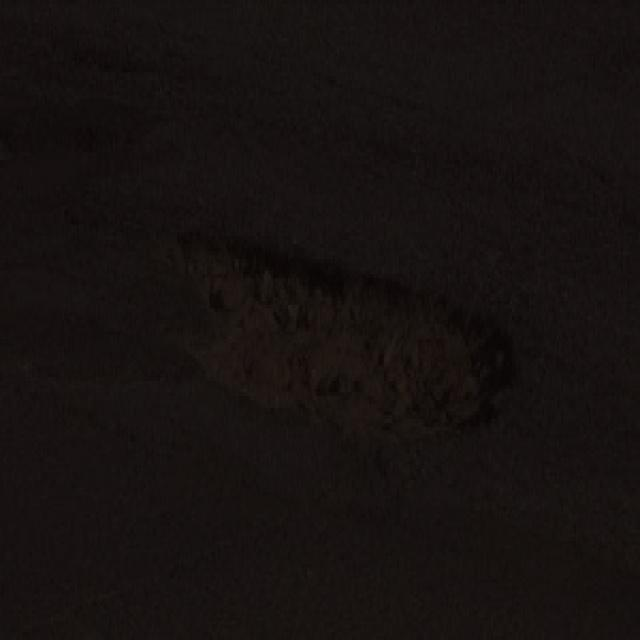Pothole: (166, 223, 516, 459)
